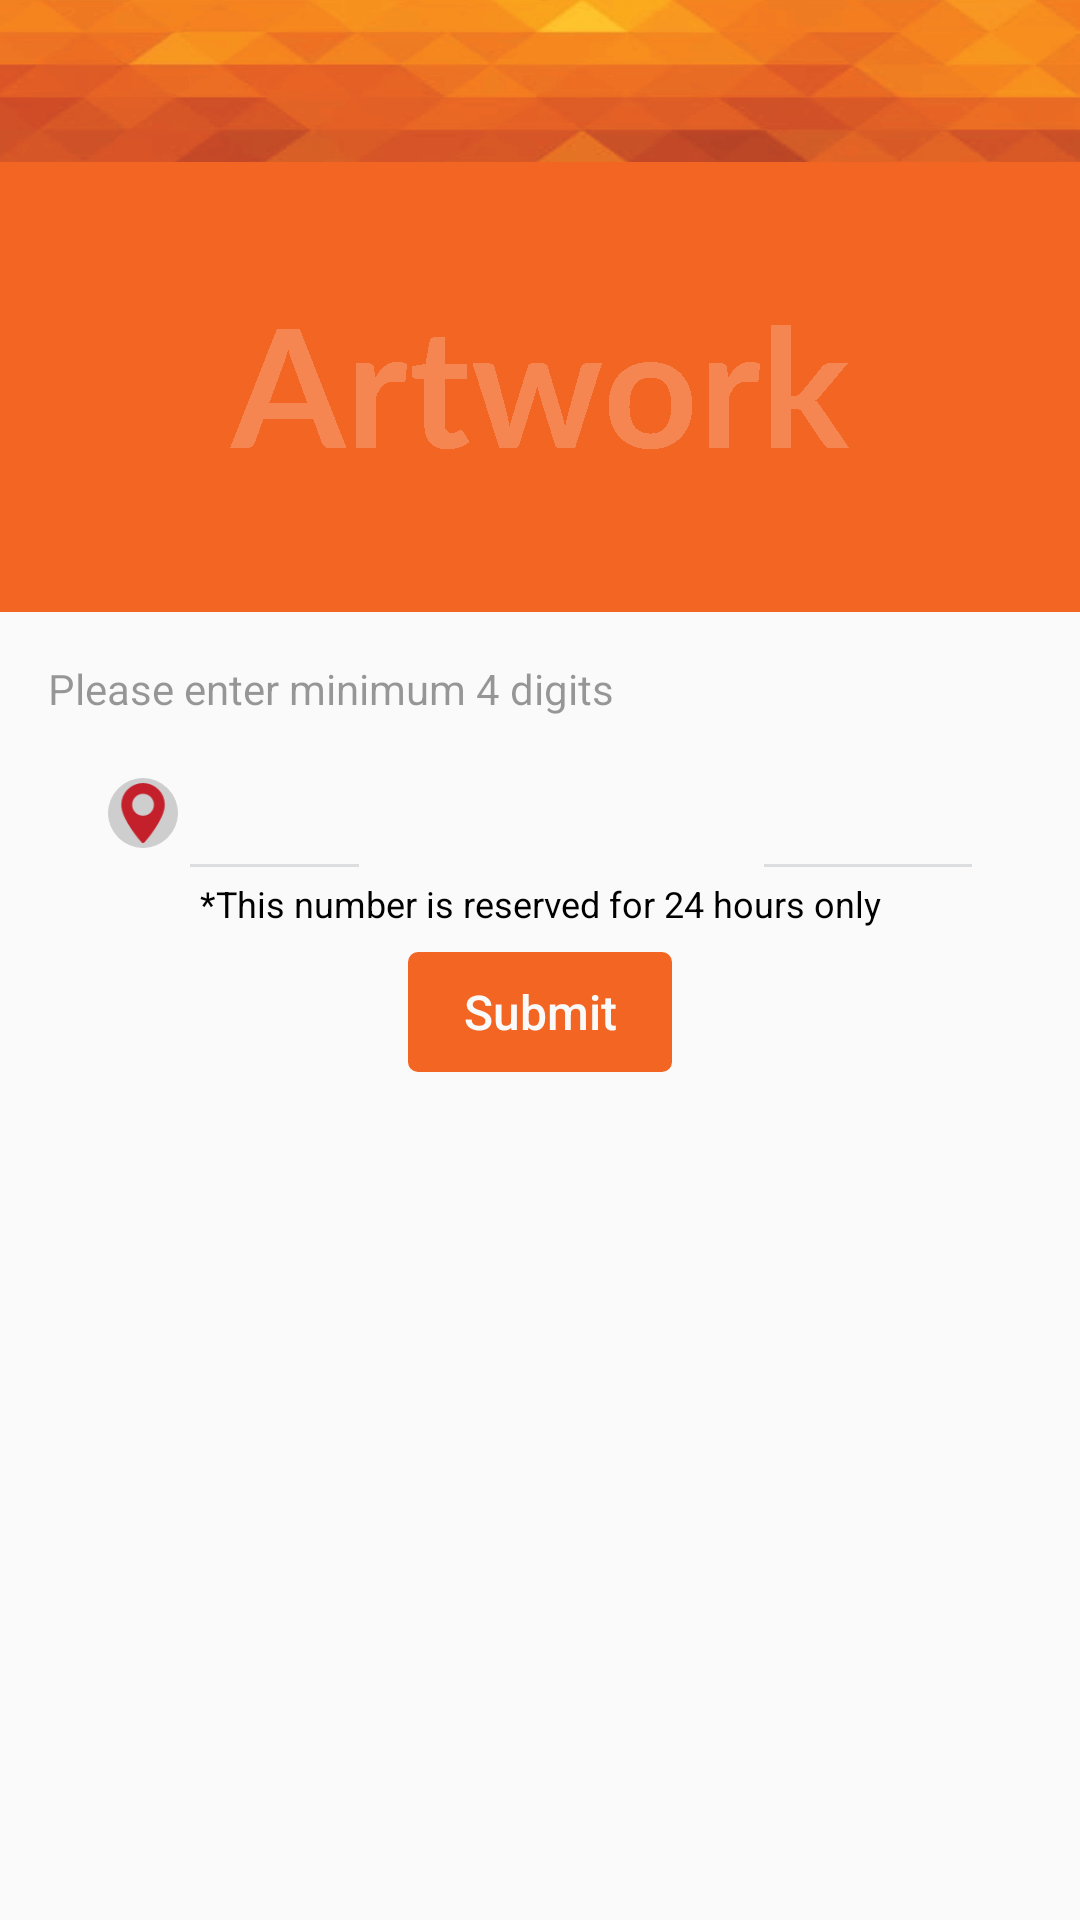

Icon click points for this 1080w x 1920h phone screenshot, format (x=x, y=y):
reverse number location: (x=143, y=813)
